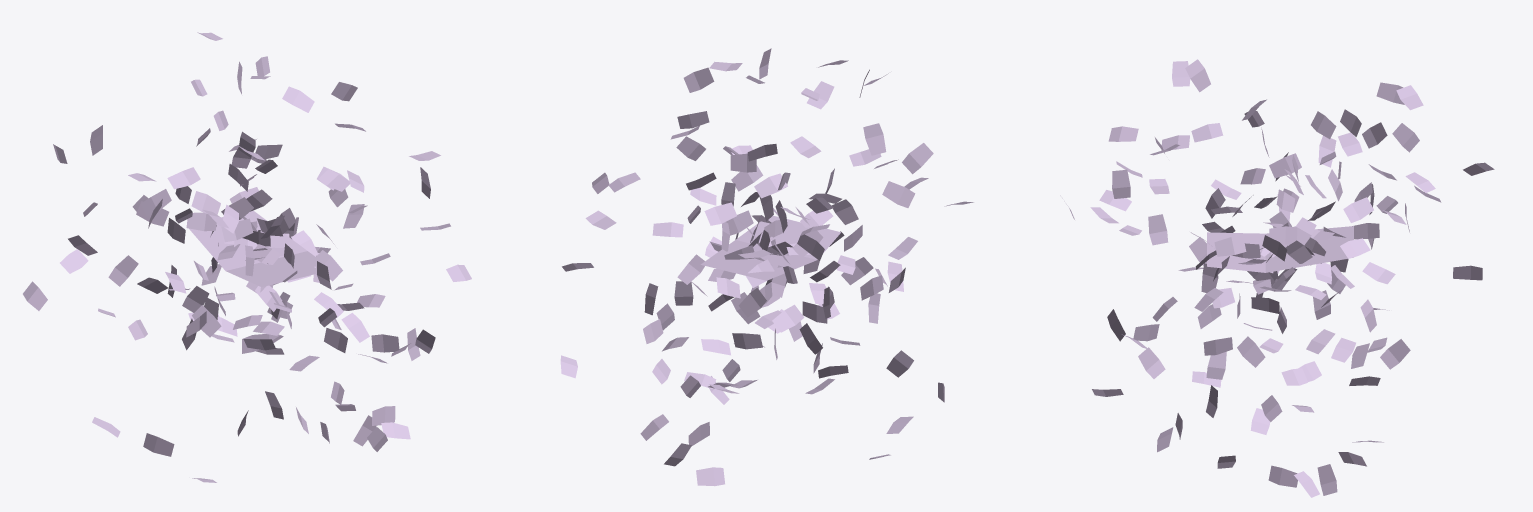
The model's file is sakura.gltf.
3 renders of one model, left to right at view 1: azimuth 30°, elevation 25°; view 2: azimuth 150°, elevation 25°; view 3: azimuth 270°, elevation 25°, orthographic.
Parts seen in each view (by area): view 1: 花びら1枚.002; view 2: 花びら1枚.002 (×3); view 3: 花びら1枚.002 (×2).
Boxes of the visible parts, left/top/right/bottom form: 花びら1枚.002: left=189, top=210, right=316, bottom=287; 花びら1枚.002 (×3): left=700, top=123, right=915, bottom=280; 花びら1枚.002 (×2): left=1207, top=226, right=1353, bottom=272.
Bounding box in the file's own units: 1.02 × 1.02 × 1.02.
